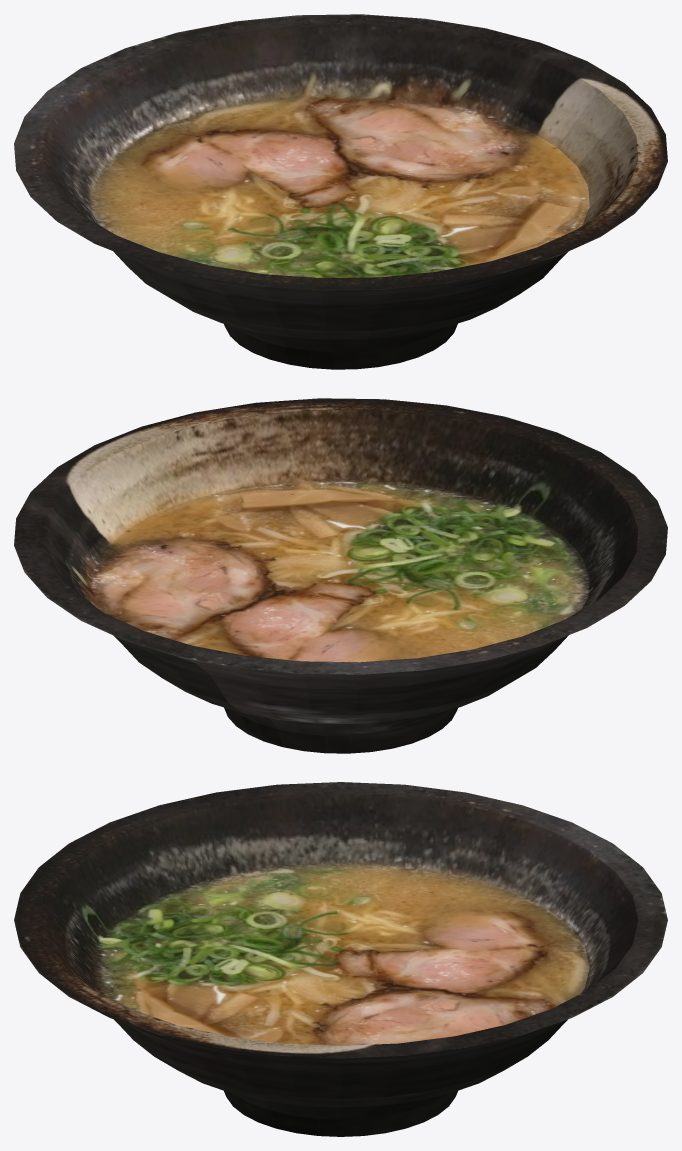
File: dosanko.fbx
The picture shows the model from 3 angles, top to bottom: view 1: azimuth 30°, elevation 25°; view 2: azimuth 150°, elevation 25°; view 3: azimuth 270°, elevation 25°; orthographic projection.
Visible parts, largest first — view 1: Cylinder; view 2: Cylinder; view 3: Cylinder.
Part boxes in pixels (x1,y1,x2,y2): Cylinder: [14, 14, 667, 369]; Cylinder: [14, 398, 667, 753]; Cylinder: [14, 782, 667, 1136].
Size of the model in its own units: 1484 by 457 by 1484.
1 material, 1 textured.
